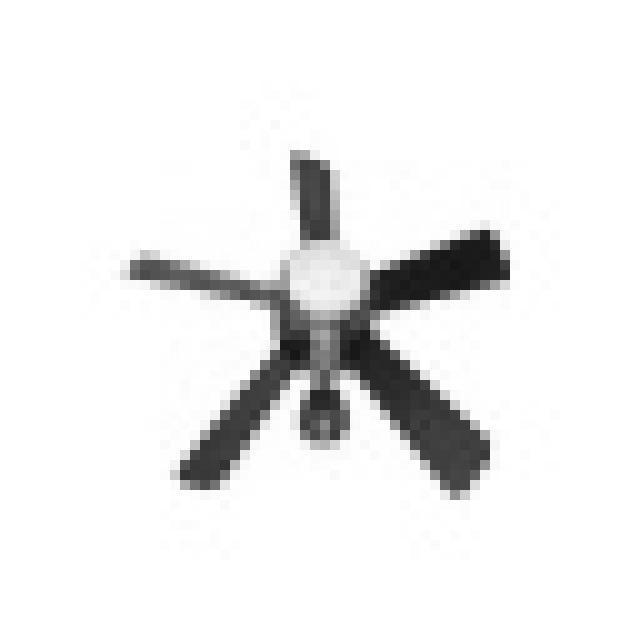fan: (118, 150, 511, 503)
